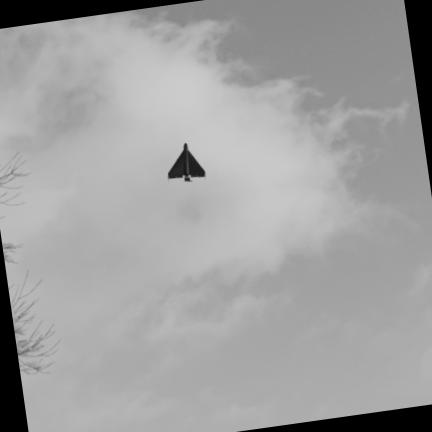Shahed: (168, 143, 205, 181)
